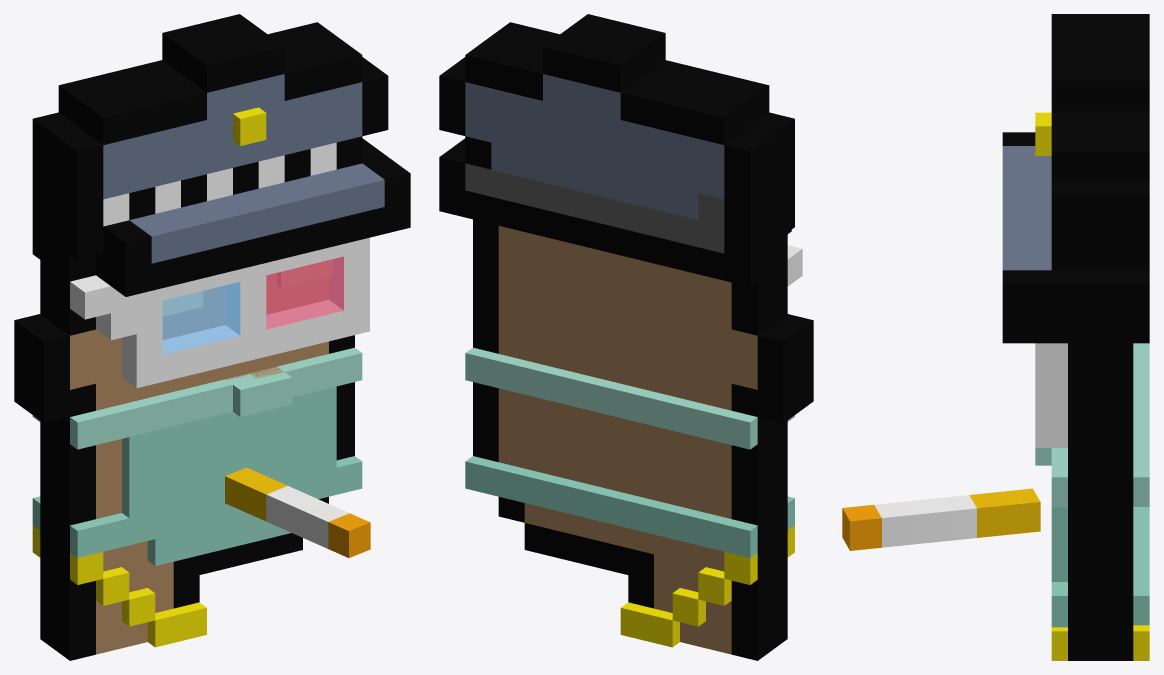
3 views of the same model, side by side, from view 1: azimuth 30°, elevation 25°; view 2: azimuth 150°, elevation 25°; view 3: azimuth 270°, elevation 25° (orthographic). The views are drawn at different scales.
Visible parts, largest first — view 1: hat_cop_face (×5), face_main, accessories_surgery_mask, glasses_3d_mount, glasses_3d_glass, back_main, cigarette, hat_cop_back, jewels_necklass_front, accessories_surgery_mask_nose, jewels_necklass_neck, eyebrows_right (+1 smaller); view 2: back_main, hat_cop_back, accessories_surgery_mask_back, hat_cop_face (×3), face_main, jewels_necklass_back, jewels_necklass_neck, glasses_3d_mount; view 3: hat_cop_face (×5), back_main, face_main, cigarette, hat_cop_back, accessories_surgery_mask_back, glasses_3d_mount, accessories_surgery_mask, jewels_necklass_neck (×2).
Boxes of the visible parts, <box> form: hat_cop_face (×5): <box>40,19,410,296</box>; face_main: <box>29,189,354,660</box>; accessories_surgery_mask: <box>70,347,362,565</box>; glasses_3d_mount: <box>70,237,369,387</box>; glasses_3d_glass: <box>162,256,343,354</box>; back_main: <box>14,179,54,649</box>; cigarette: <box>225,467,370,557</box>; hat_cop_back: <box>32,14,324,259</box>; jewels_necklass_front: <box>96,567,180,647</box>; accessories_surgery_mask_nose: <box>226,367,292,416</box>; jewels_necklass_neck: <box>70,552,206,640</box>; eyebrows_right: <box>277,260,332,287</box>; back_main: <box>473,189,798,660</box>; hat_cop_back: <box>439,41,757,286</box>; accessories_surgery_mask_back: <box>465,347,757,557</box>; hat_cop_face (×3): <box>447,14,794,231</box>; face_main: <box>772,178,813,649</box>; jewels_necklass_back: <box>646,567,731,647</box>; jewels_necklass_neck: <box>620,552,757,640</box>; glasses_3d_mount: <box>787,245,802,286</box>; hat_cop_face (×5): <box>1002,14,1133,343</box>; back_main: <box>1100,254,1133,660</box>; face_main: <box>1068,254,1100,660</box>; cigarette: <box>842,488,1040,550</box>; hat_cop_back: <box>1133,14,1149,343</box>; accessories_surgery_mask_back: <box>1133,343,1149,625</box>; glasses_3d_mount: <box>1035,343,1067,447</box>; accessories_surgery_mask: <box>1051,448,1067,627</box>; jewels_necklass_neck (×2): <box>1051,625,1149,660</box>.
Size of the model in its own units: 13 by 21 by 9.41.
